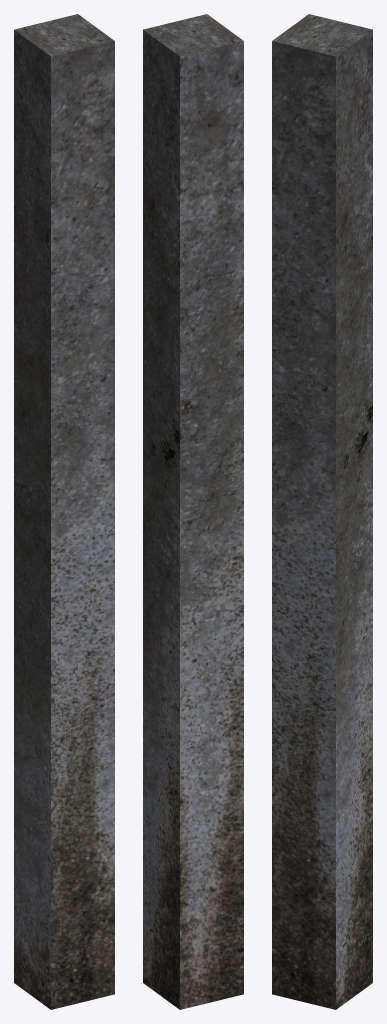
Rendered from Bet_stolb_002-1.fbx.
3 renders of one model, left to right at view 1: azimuth 30°, elevation 25°; view 2: azimuth 210°, elevation 25°; view 3: azimuth 330°, elevation 25°, orthographic.
Parts seen in each view (by area): view 1: Plane.002_dmg.001; view 2: Plane.002_dmg.001; view 3: Plane.002_dmg.001.
Boxes of the visible parts, <box> form: Plane.002_dmg.001: <box>14,14,114,1009</box>; Plane.002_dmg.001: <box>143,14,243,1009</box>; Plane.002_dmg.001: <box>272,14,372,1009</box>.
Bounding box in the file's own units: 40 × 570 × 40.
